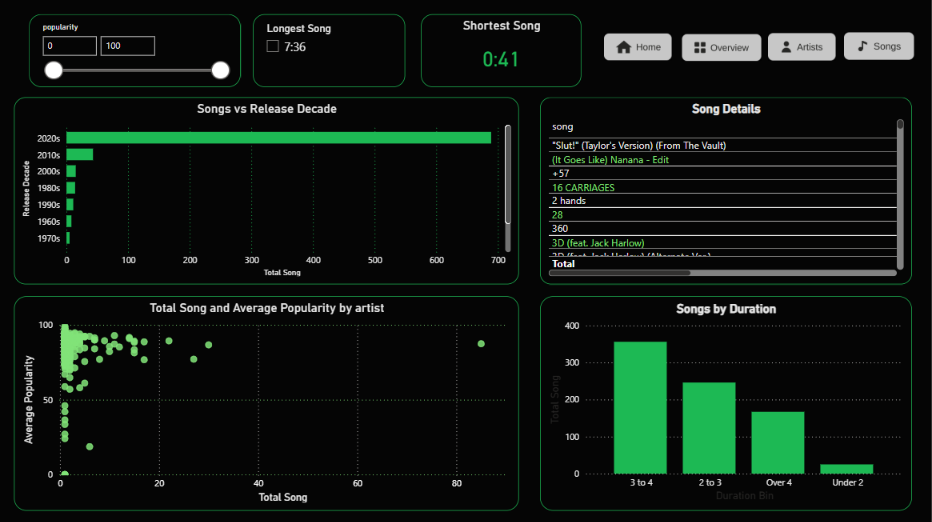

Layout of this report page (visuals, bound fields, positions):
{"tool":"powerbi","page":{"name":"Songs","canvas":[1280,720],"ordinal":3},"visuals":[{"type":"group","id":"g1","title":"Group 1","box":[828.6,34.3,425.7,64.3],"z":0},{"type":"scatterChart","fields":{"Category":["spotify-top-50-world.artist"],"X":["spotify-top-50-world.Total Song"],"Y":["spotify-top-50-world.Average Popularity"]},"box":[18.6,407.1,692.9,294.3],"z":1000},{"type":"clusteredBarChart","title":"Songs vs Release Decade","fields":{"Category":["spotify-top-50-world.Release Decade"],"Y":["spotify-top-50-world.Total Song"]},"box":[18.6,134.3,692.9,257.1],"z":2000},{"type":"slicer","fields":{"Values":["spotify-top-50-world.popularity"]},"box":[40,20,290,100],"z":3000},{"type":"clusteredColumnChart","title":"Songs by Duration","fields":{"Y":["spotify-top-50-world.Total Song"],"Category":["spotify-top-50-world.Duration Bin"]},"box":[741.4,407.1,510,294.3],"z":4000},{"type":"tableEx","title":"Song Details","fields":{"Values":["spotify-top-50-world.song","spotify-top-50-world.artist","Sum(spotify-top-50-world.popularity)","spotify-top-50-world.Song Time","Sum(spotify-top-50-world.position)"]},"box":[741,134,510,257],"z":5000},{"type":"slicer","fields":{"Values":["spotify-top-50-world.Longest Song"]},"box":[347.1,20,208.6,100],"z":6000},{"type":"card","title":"Shortest Song","fields":{"Values":["Min(spotify-top-50-world.Shortest Song)"]},"box":[577.1,20,220,100],"z":7000},{"type":"image","box":[828.6,40,92.9,51.4],"z":11000,"group":"g1"},{"type":"image","box":[935.7,34.3,108.6,64.3],"z":12000,"group":"g1"},{"type":"image","box":[1054.3,42.9,92.9,45.7],"z":13000,"group":"g1"},{"type":"image","box":[1158.6,34.3,95.7,60],"z":14000,"group":"g1"}]}

Visuals, with their boxes in screenshot pixels (x1, y1, x2, y2), scaled from the page's 1280x720 canvas onto the 932x522 screenshot:
"Group 1" group: select_region(603, 25, 913, 71)
scatterChart - spotify-top-50-world.artist x spotify-top-50-world.Total Song: select_region(14, 295, 518, 509)
"Songs vs Release Decade" clusteredBarChart: select_region(14, 97, 518, 284)
slicer - spotify-top-50-world.popularity: select_region(29, 14, 240, 87)
"Songs by Duration" clusteredColumnChart: select_region(540, 295, 911, 509)
"Song Details" tableEx: select_region(540, 97, 911, 283)
slicer - spotify-top-50-world.Longest Song: select_region(253, 14, 405, 87)
"Shortest Song" card: select_region(420, 14, 580, 87)
image: select_region(603, 29, 671, 66)
image: select_region(681, 25, 760, 71)
image: select_region(768, 31, 835, 64)
image: select_region(844, 25, 913, 68)
